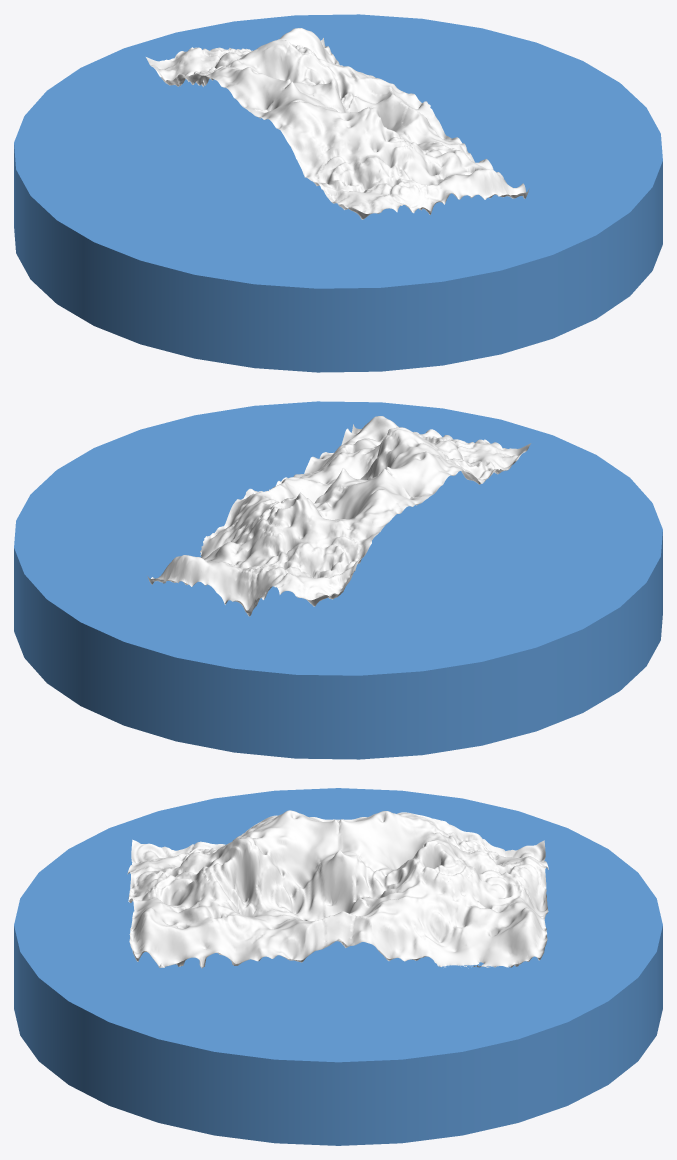
Rendered from Cave.fbx.
3 renders of one model, top to bottom at view 1: azimuth 30°, elevation 25°; view 2: azimuth 150°, elevation 25°; view 3: azimuth 270°, elevation 25°, orthographic.
Visible parts, largest first — view 1: Circle, Plane.001; view 2: Circle, Plane.001; view 3: Circle, Plane.001.
Boxes of the visible parts, x1,y1,x2,y2 form: Circle: (14,14,662,372); Plane.001: (146,28,529,219); Circle: (14,401,662,759); Plane.001: (147,416,531,616); Circle: (14,788,662,1145); Plane.001: (127,810,548,968).
Size of the model in its own units: 6335 by 1799 by 6335.
